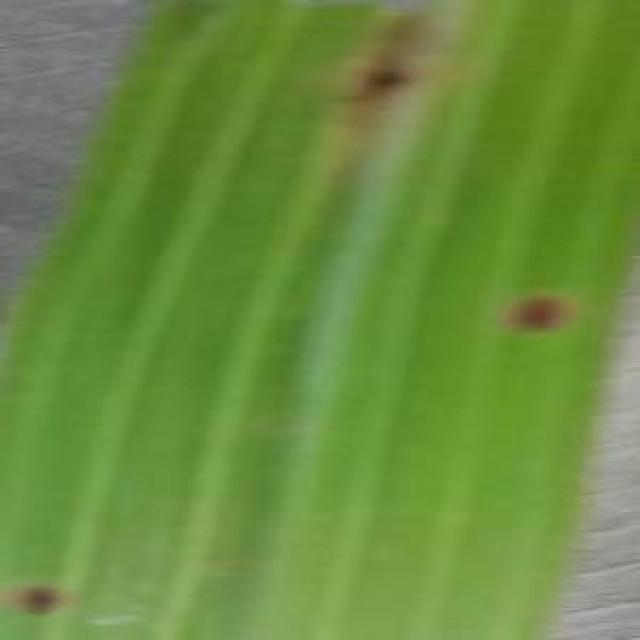Brown_Spot: (328, 0, 452, 165), (498, 282, 579, 338), (0, 576, 68, 635)
